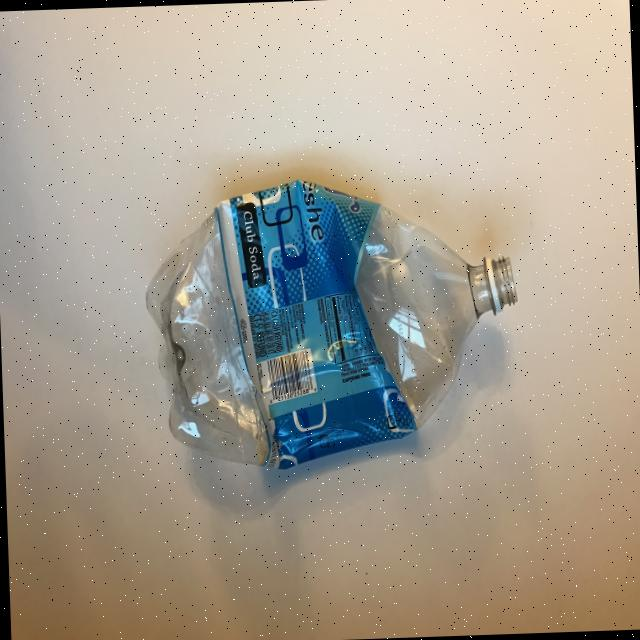plastic: (141, 170, 522, 474)
